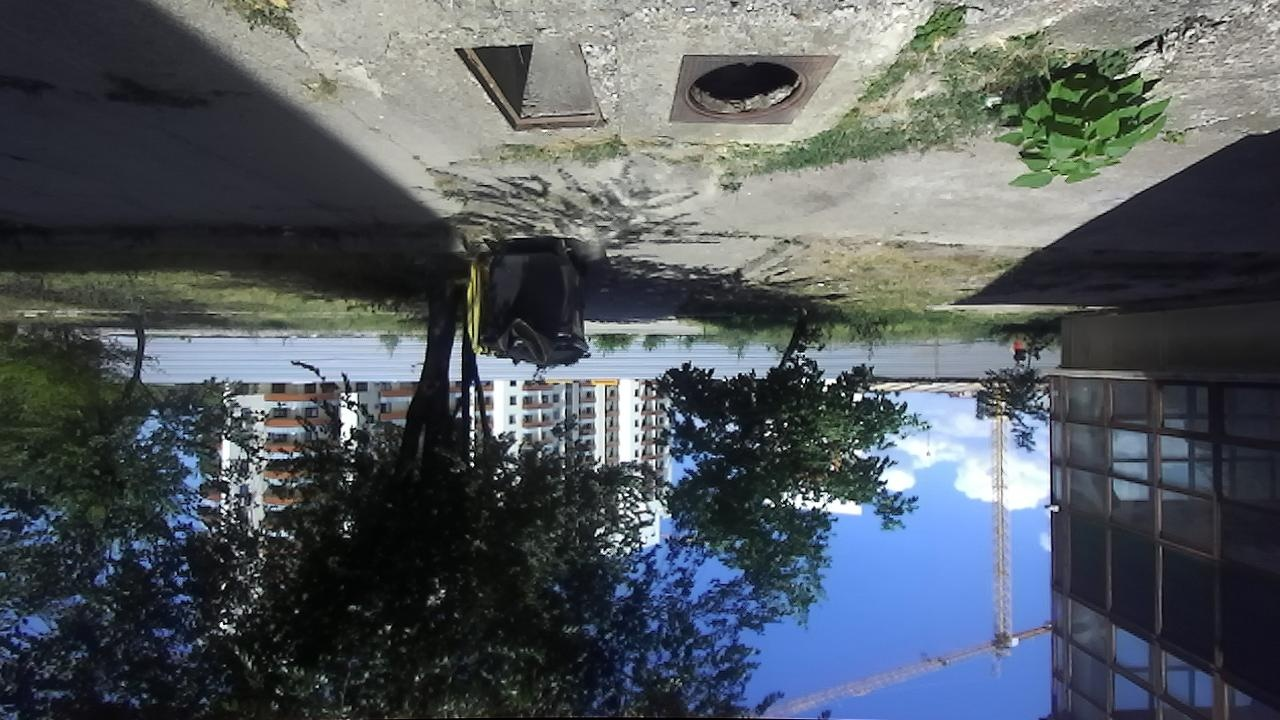drain: (449, 42, 609, 137), (682, 56, 810, 122)
